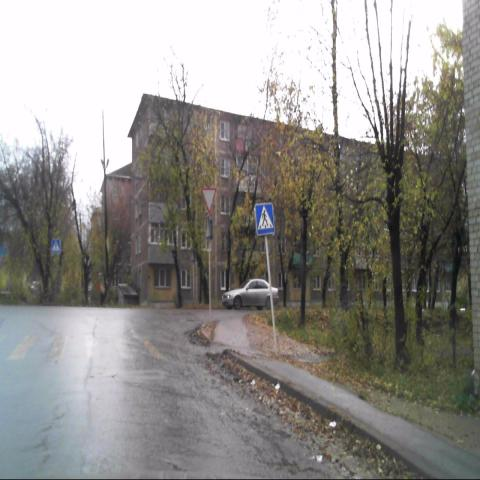2_4: (201, 187, 216, 213)
5_19_1: (254, 203, 274, 236), (52, 238, 60, 253)
